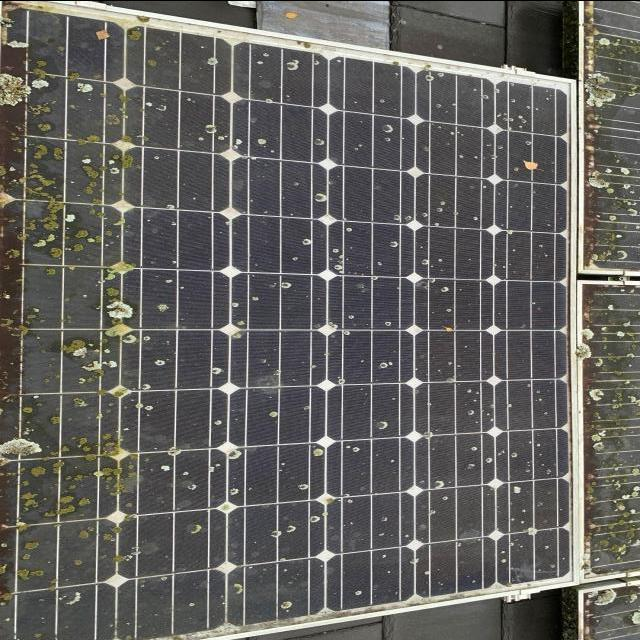soiled: (0, 0, 572, 635), (576, 0, 640, 639)
